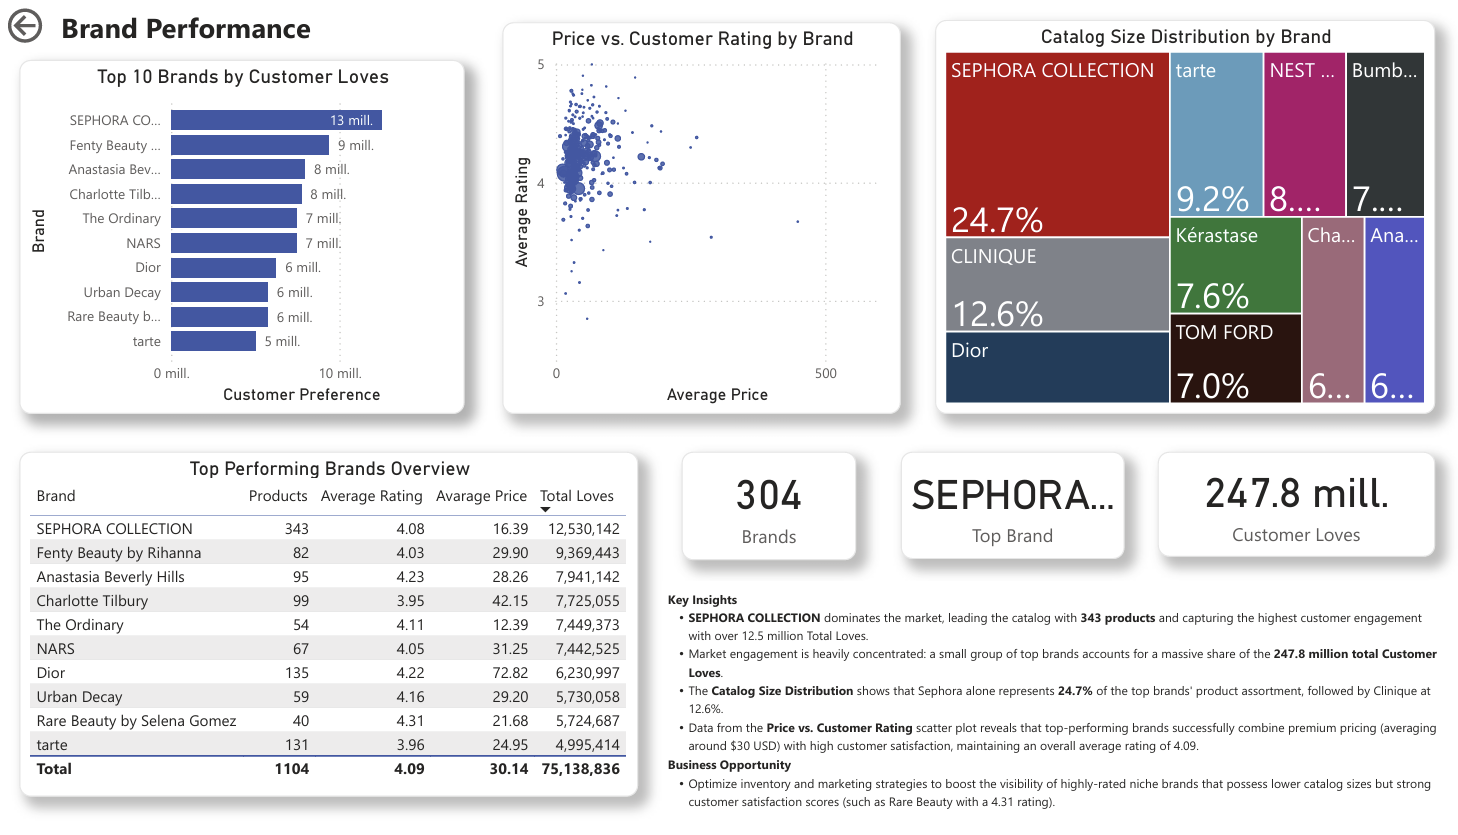

What the dashboard file says about the page in this screenshot:
{"tool":"powerbi","page":{"name":"Brand Performance","canvas":[1280,720],"ordinal":1},"visuals":[{"type":"textbox","box":[26.7,0,1253.3,50],"z":0},{"type":"card","fields":{"Values":["products_engineered.Top Brand"]},"box":[786.7,393.3,196.7,93.3],"z":1000},{"type":"card","fields":{"Values":["Sum(products_engineered.loves_count)"]},"box":[1011.7,393.3,243.3,91.7],"z":2000},{"type":"barChart","title":"Top 10 Brands by Customer Loves","fields":{"Y":["Sum(products_engineered.loves_count)"],"Category":["products_engineered.brand_name"]},"box":[15,50,390,310],"z":3000},{"type":"scatterChart","title":"Price vs. Customer Rating by Brand","fields":{"Y":["Avg(products_engineered.rating)"],"X":["Avg(products_engineered.price_usd)"],"Size":["Sum(products_engineered.loves_count)"],"Category":["products_engineered.brand_name"]},"box":[438.3,16.7,348.3,343.3],"z":4000},{"type":"actionButton","box":[0,0,100,40],"z":5000},{"type":"treemap","title":"Catalog Size Distribution by Brand","fields":{"Group":["products_engineered.brand_name"],"Values":["CountNonNull(products_engineered.product_name)"]},"box":[816.7,15,438.3,345],"z":6000},{"type":"tableEx","title":"Top Performing Brands Overview","fields":{"Values":["products_engineered.brand_name","products_engineered.product_name","Avg(products_engineered.rating)","Avg(products_engineered.price_usd)","Sum(products_engineered.loves_count)"]},"box":[15,393.3,541.7,301.7],"z":7000},{"type":"card","fields":{"Values":["Count(products_engineered.brand_name)"]},"box":[595,393.3,153.3,95],"z":8000},{"type":"textbox","box":[578.3,506.7,690,213.3],"z":9000}]}

Visuals, with their boxes in screenshot pixels (x1, y1, x2, y2), scaled from the page's 1280x720 canvas onto the 1458x835 screenshot:
textbox: bbox=(30, 0, 1457, 58)
card - products_engineered.Top Brand: bbox=(896, 456, 1120, 564)
card - Sum(products_engineered.loves_count): bbox=(1152, 456, 1430, 562)
"Top 10 Brands by Customer Loves" barChart: bbox=(17, 58, 461, 418)
"Price vs. Customer Rating by Brand" scatterChart: bbox=(499, 19, 896, 418)
actionButton: bbox=(0, 0, 114, 46)
"Catalog Size Distribution by Brand" treemap: bbox=(930, 17, 1430, 418)
"Top Performing Brands Overview" tableEx: bbox=(17, 456, 634, 806)
card - Count(products_engineered.brand_name): bbox=(678, 456, 852, 566)
textbox: bbox=(659, 588, 1445, 834)
